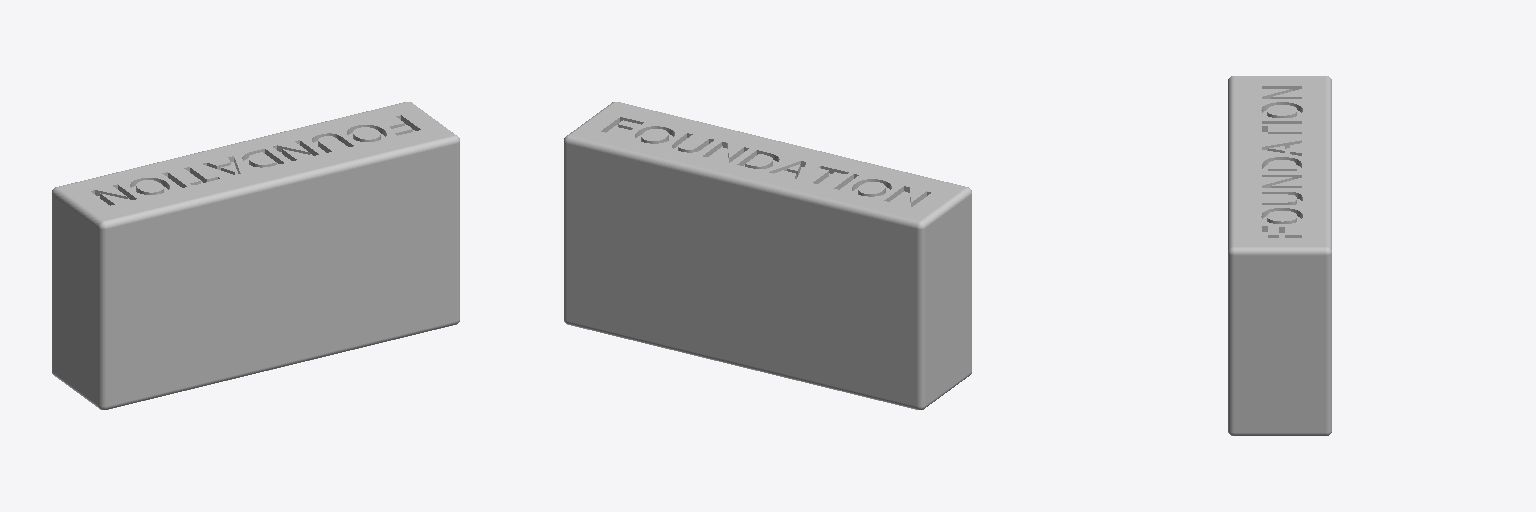
The model's file is foundation.obj.
The picture shows the model from 3 angles: view 1: azimuth 30°, elevation 25°; view 2: azimuth 150°, elevation 25°; view 3: azimuth 270°, elevation 25°; orthographic projection.
Size of the model in its own units: 50.8 by 25.4 by 12.7.